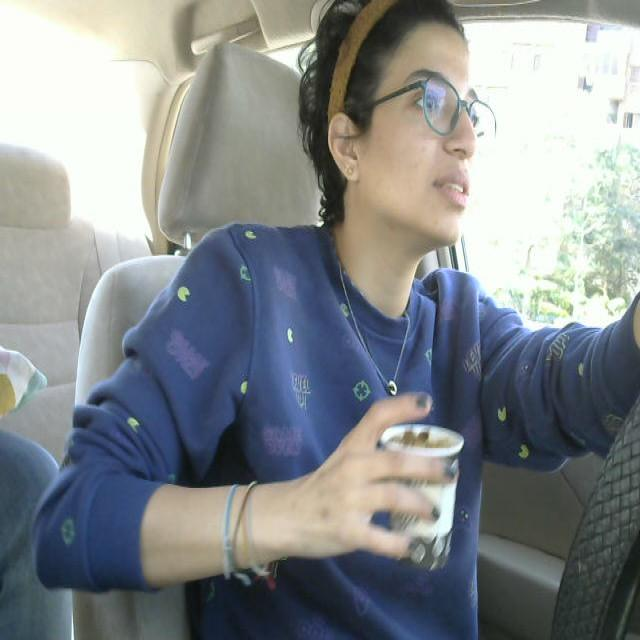drinking: (373, 399, 470, 584)
